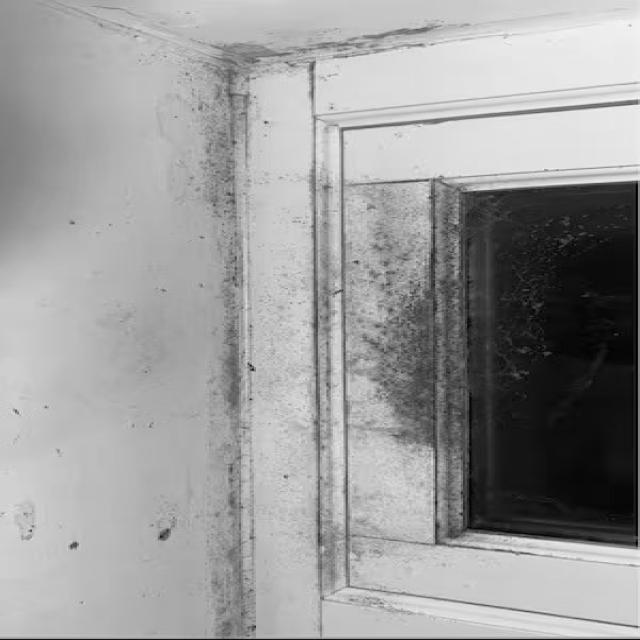stain marks: (137, 1, 477, 640)
